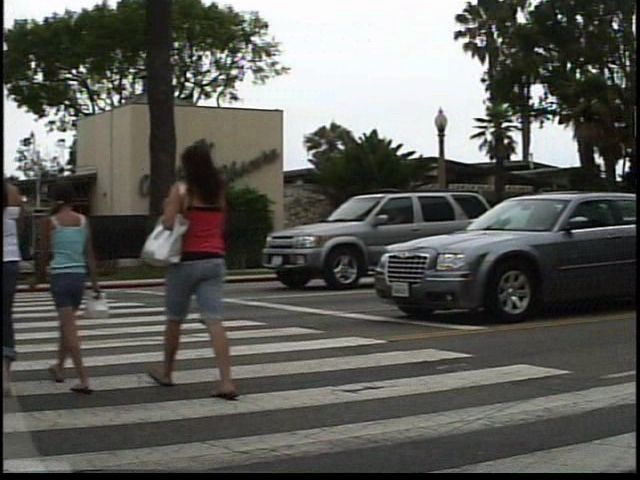person: (154, 139, 261, 407), (46, 177, 120, 401)
